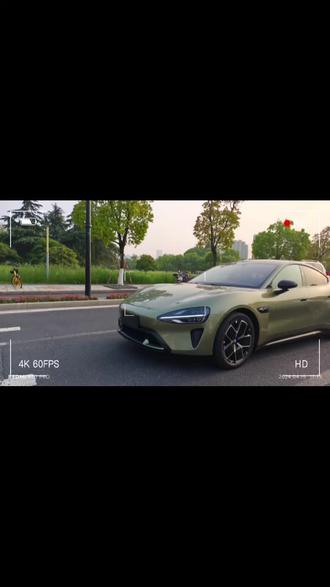su7: (123, 255, 330, 367)
